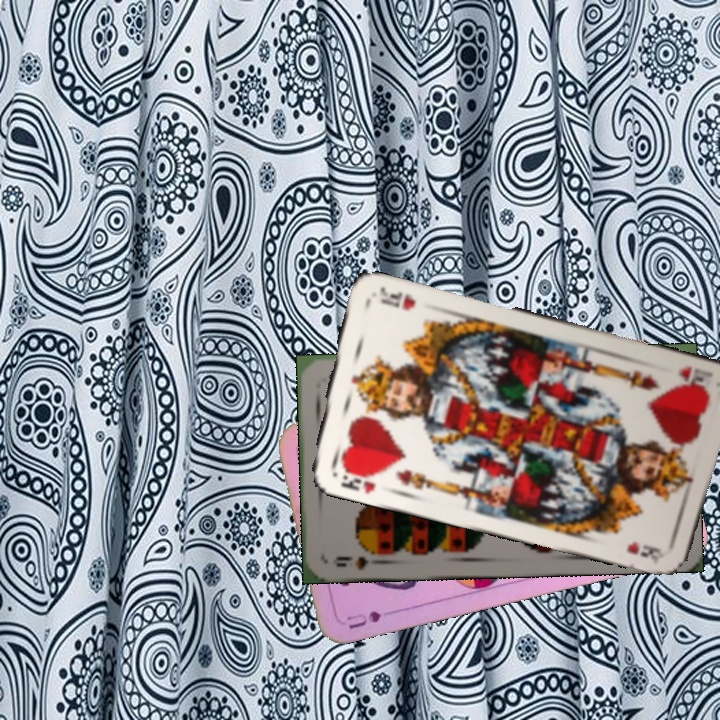HK: (336, 462, 385, 496), (674, 362, 714, 385)
S9: (331, 552, 386, 572)
SU: (342, 605, 401, 632)
